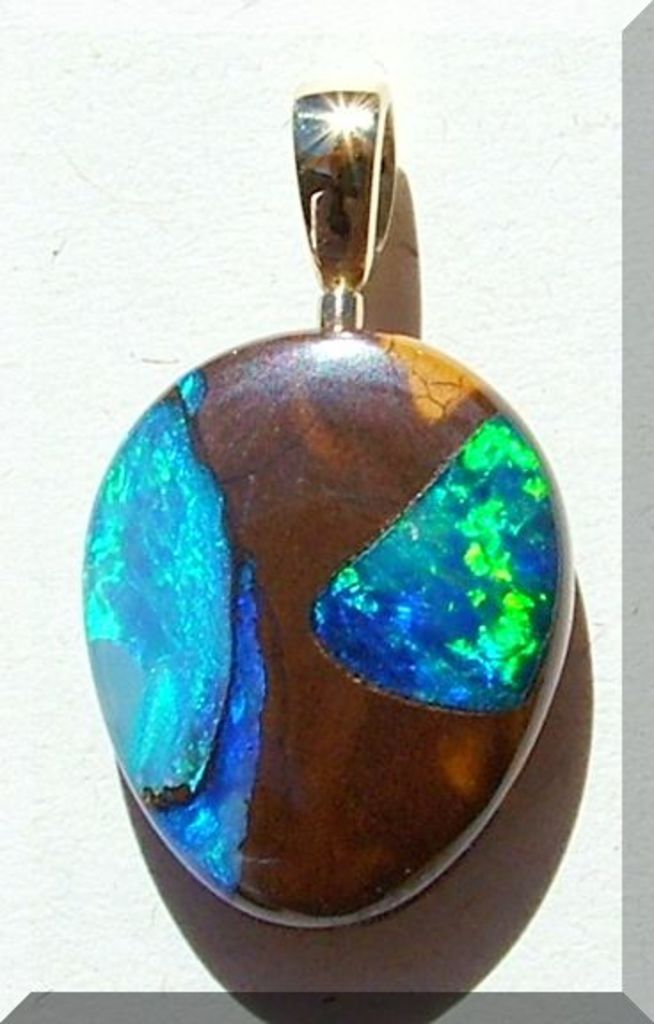face: (296, 103, 385, 317)
